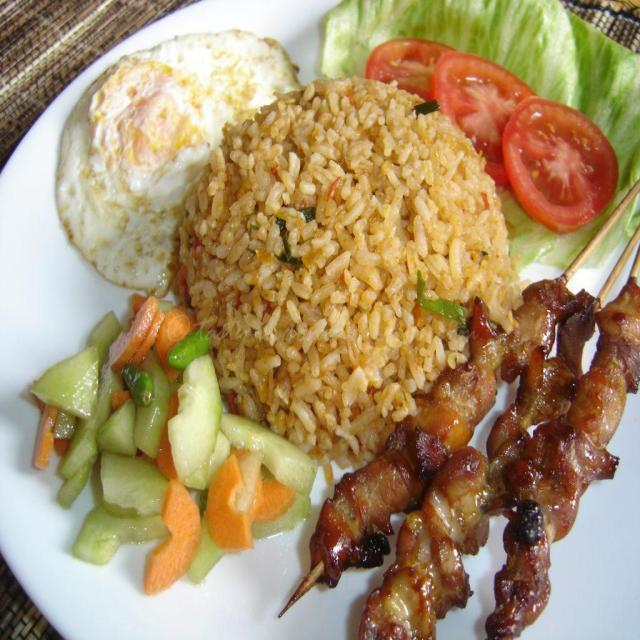Nasi Goreng: (190, 95, 508, 412)
